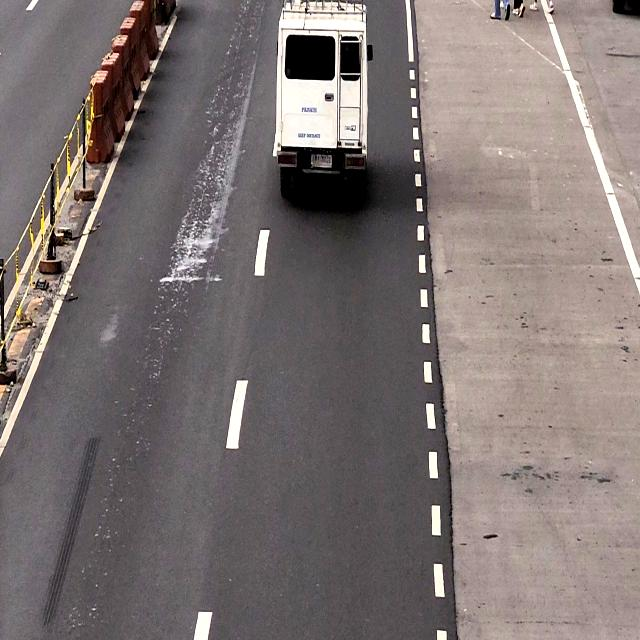Car: (271, 0, 372, 201)
License-Plate: (310, 149, 334, 168)
